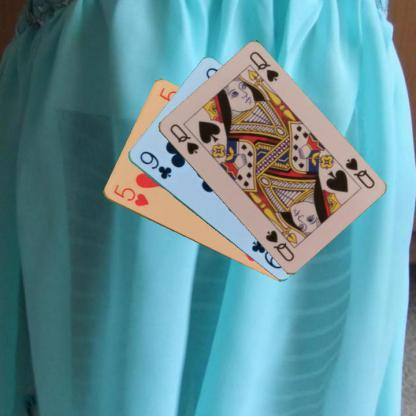5h: (110, 182, 150, 208)
9c: (136, 148, 173, 181)
Qs: (166, 121, 200, 156), (342, 155, 376, 190)
